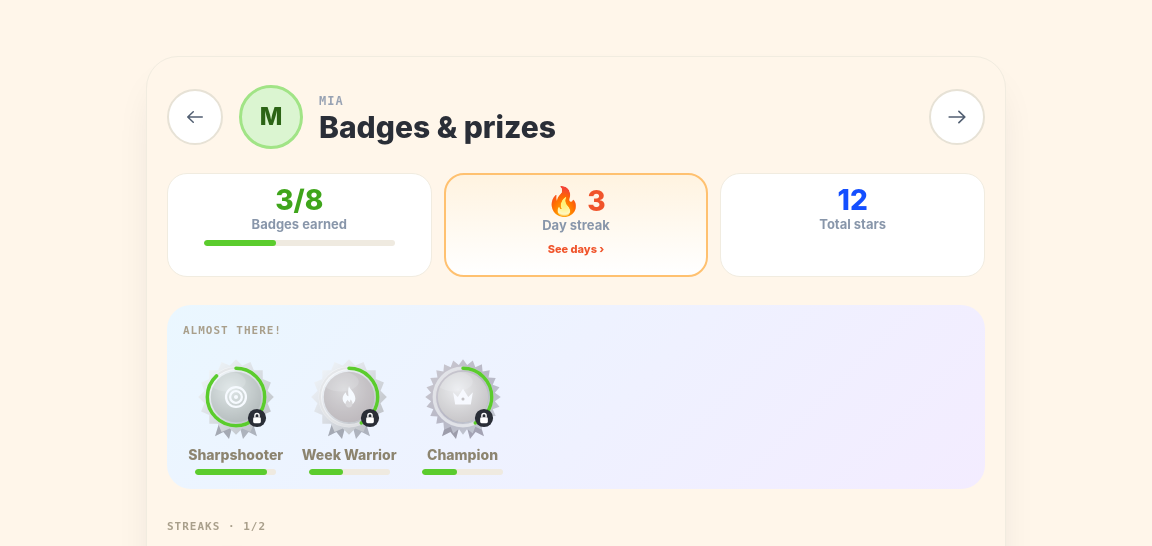
Test: BadgesView › switches to the parent view, with insights, and back
The width and height of the screenshot is (1152, 546).
What coordinates should you click on to do the following:
click the button named "Switch to parent view"
I would click on:
 (957, 117)
Its box is [929,89,985,145].
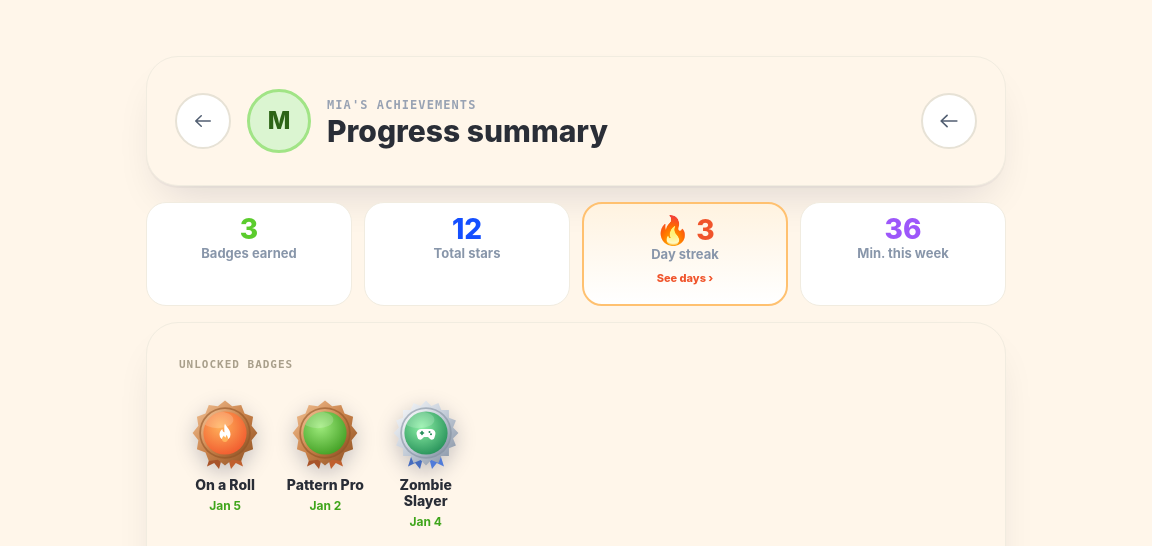
Now the text "Progress summary" is shown, box [327,114,608,148]
Now the number of buttons named ": earned" is 3, box [179,391,271,538]; [279,391,372,538]; [380,391,472,538]
What coordinates should you click on to do the following:
click the button named "Switch to kid view"
I would click on:
 (949, 121)
Its box is [921,93,977,149].
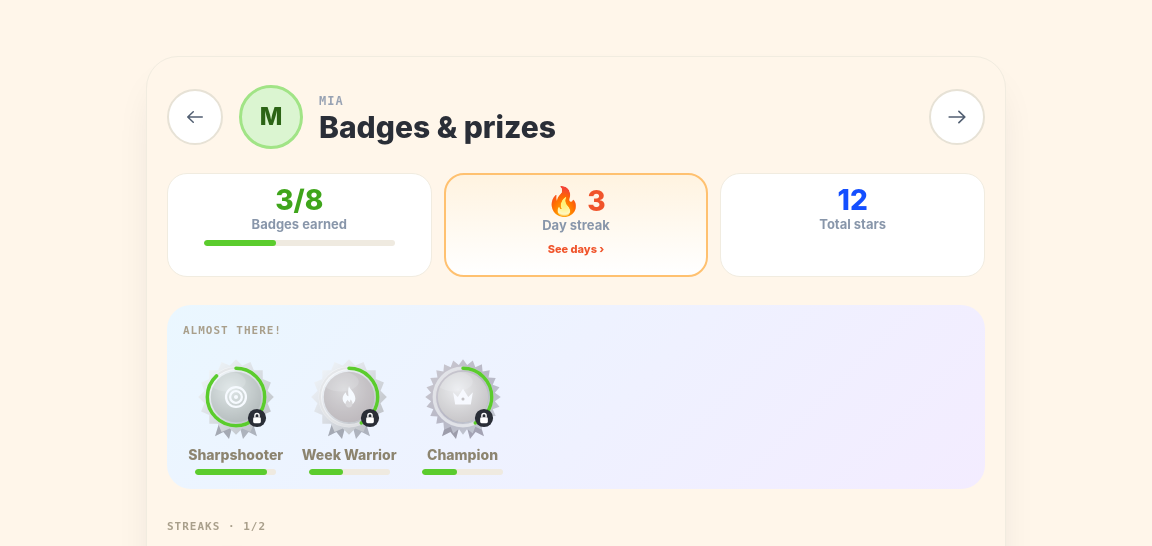
Now the text "Badges & prizes" is shown, box [319,110,556,144]
